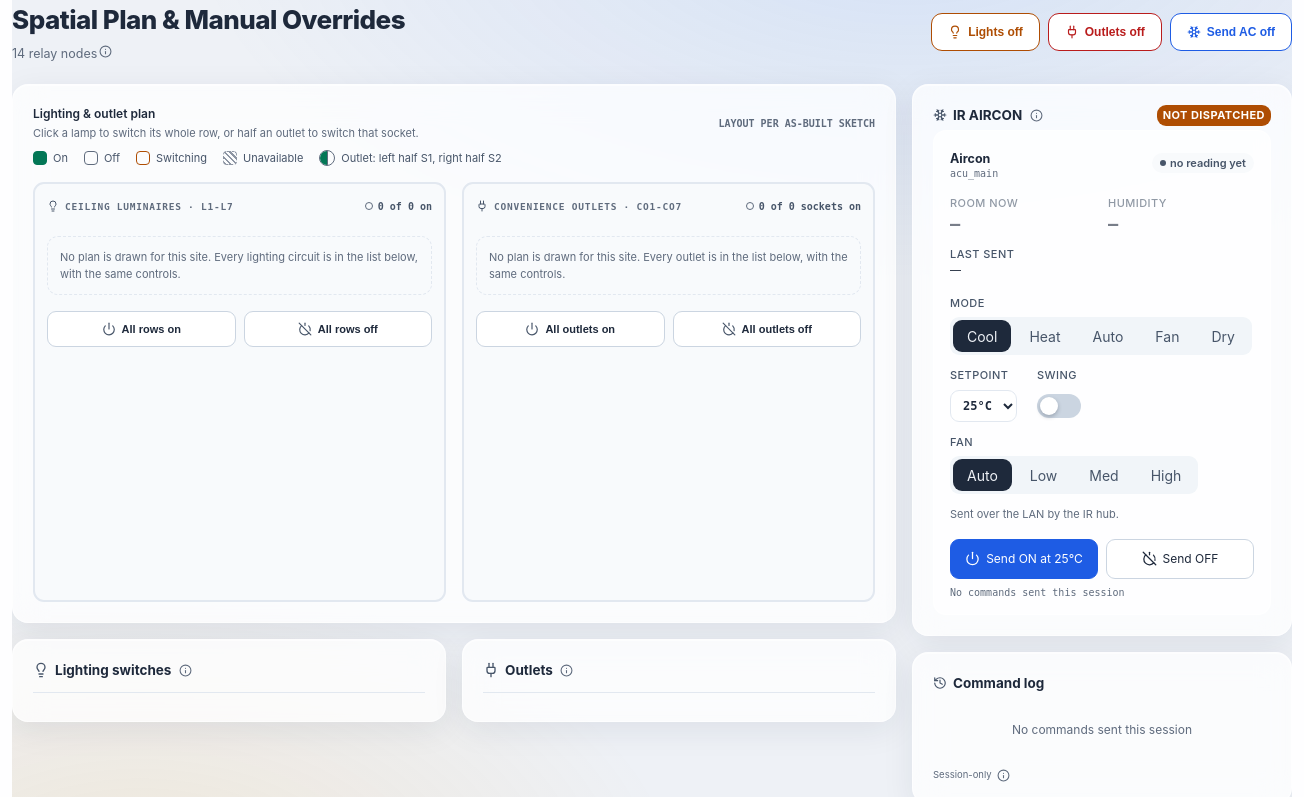
Test: ACU full state › refuses to offer a state only the cloud can send when the cloud is not answering — and OFF still works
Click the button "Dry". click: (1223, 336)
box: x1=1197 y1=320 x2=1249 y2=352
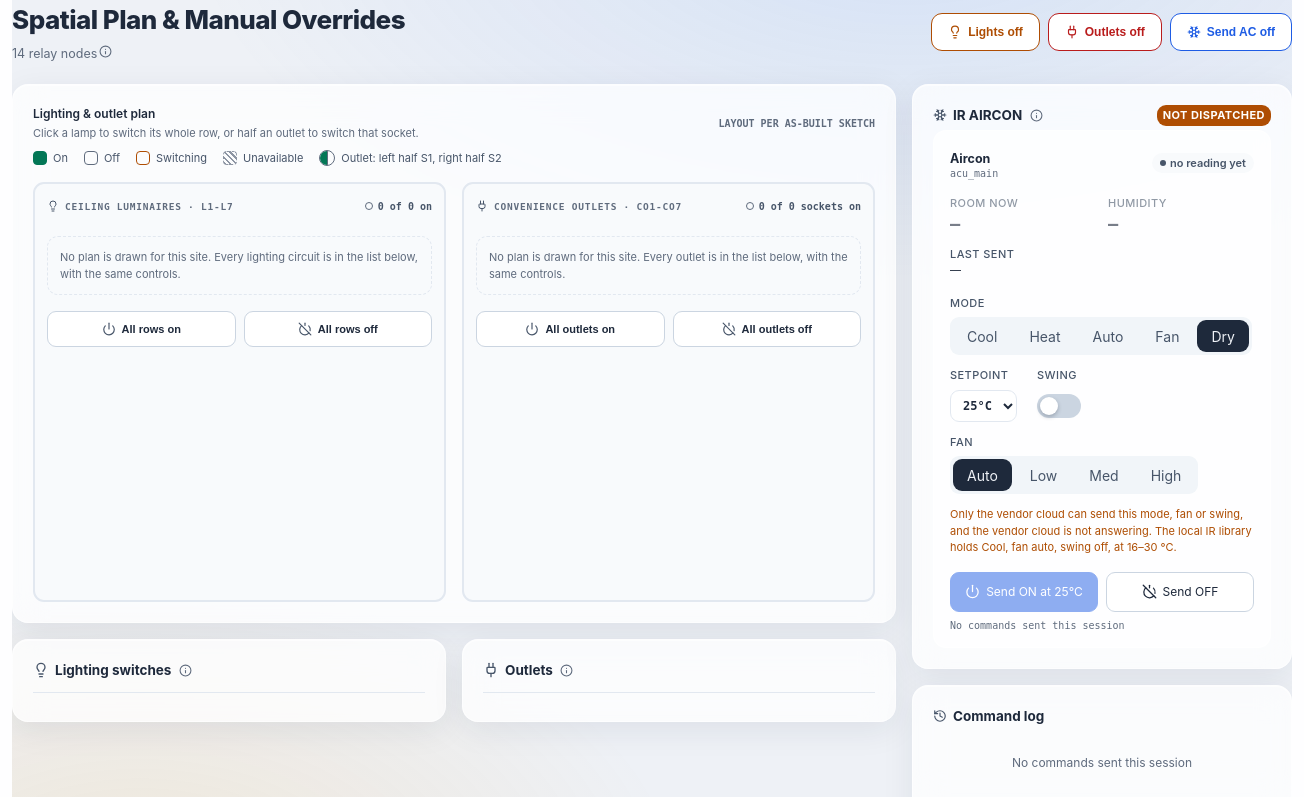
Expected: the button "Send OFF" is enabled, x1=1106 y1=572 x2=1254 y2=612
Result: the button "Send ON at 25°C" is disabled at x1=950 y1=572 x2=1098 y2=612
Result: the text "vendor cloud is not answering" is shown at x1=950 y1=507 x2=1252 y2=554
